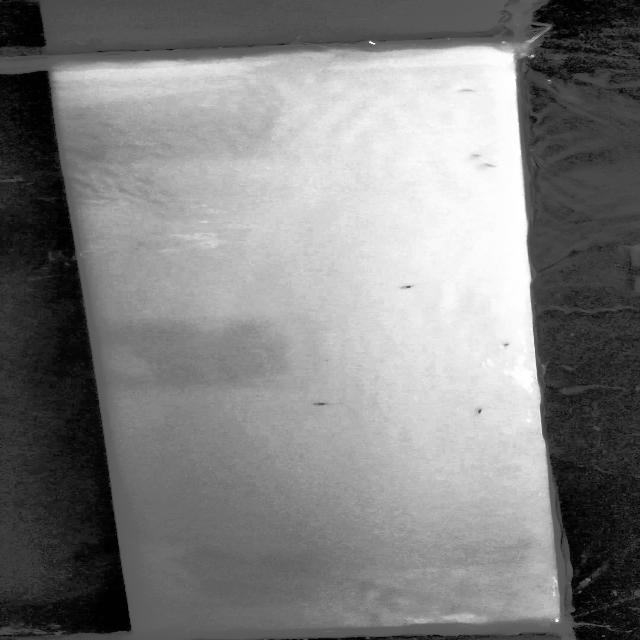shrimp: (449, 81, 487, 98), (394, 279, 427, 295), (310, 399, 348, 411), (472, 160, 512, 171), (467, 404, 491, 416), (492, 339, 514, 351), (460, 151, 486, 161)
